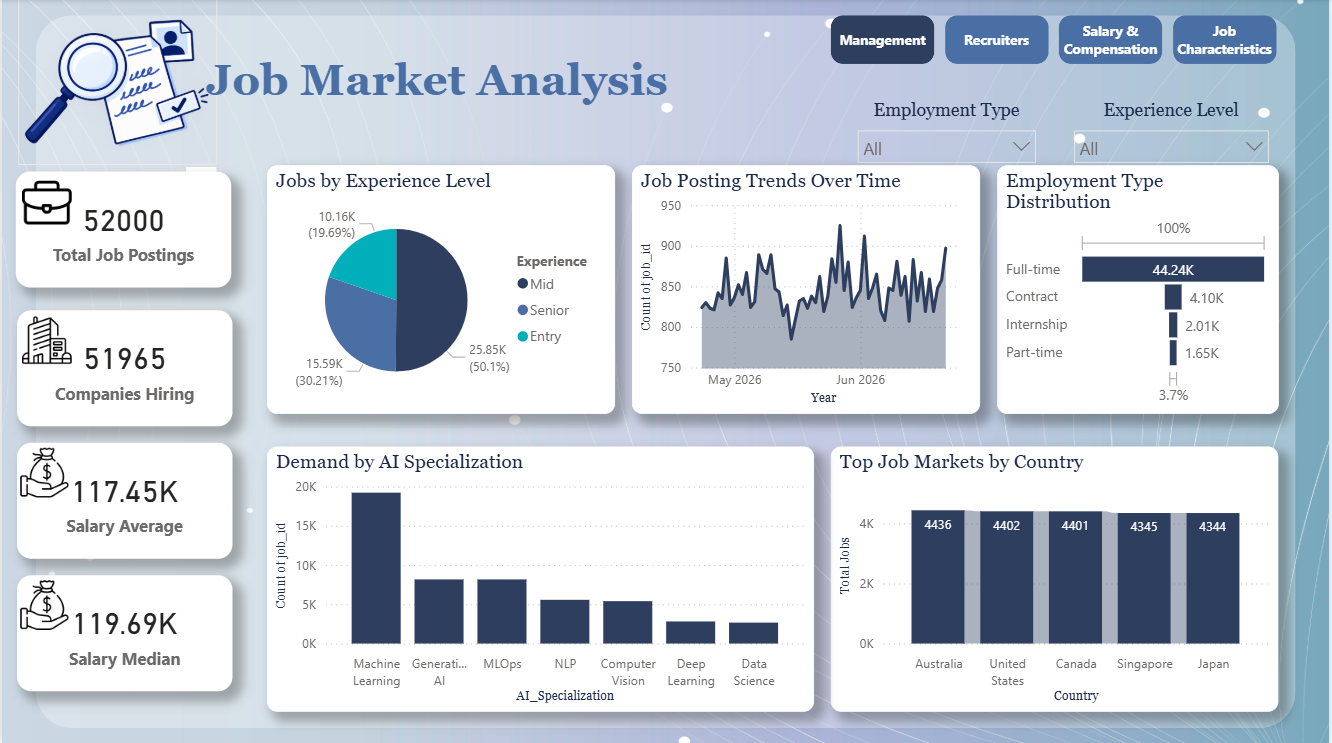

The page's visual inventory and layout, read from the dashboard file:
{"tool":"powerbi","page":{"name":"Management","canvas":[1280,720],"ordinal":0},"visuals":[{"type":"shape","box":[32,16,1216,688],"z":0},{"type":"image","box":[16,0,192,160],"z":1000},{"type":"textbox","box":[192,48,480,64],"z":2000},{"type":"columnChart","title":"Top Job Markets by Country","fields":{"Category":["dim_job_info.Country"],"Y":["CountNonNull(dim_job_info.job_id)"]},"box":[800,432,432,256],"z":3000},{"type":"card","fields":{"Values":["CountNonNull(dim_job_info.job_id)"]},"box":[13.4,166.7,208,112],"z":4000},{"type":"card","fields":{"Values":["CountNonNull(dim_company_info.company_id)"]},"box":[14.3,300.6,208,112],"z":5000},{"type":"card","fields":{"Values":["Avg(dim_compensation.salary_avg_usd)"]},"box":[14.3,428.6,208,112],"z":6000},{"type":"card","fields":{"Values":["Median(dim_compensation.salary_avg_usd)"]},"box":[14.3,556.6,208,112],"z":7000},{"type":"columnChart","title":"Demand by AI Specialization","fields":{"Category":["dim_job_info.AI_Specialization"],"Y":["CountNonNull(dim_job_info.job_id)"]},"box":[256,432,528,256],"z":8000},{"type":"image","box":[19.1,173,48,48],"z":9000},{"type":"image","box":[19.8,305.7,48,48],"z":10000},{"type":"image","box":[16.4,432.9,48,48],"z":11000},{"type":"image","box":[16.4,560.9,48,48],"z":12000},{"type":"funnel","title":"Employment Type Distribution","fields":{"Category":["dim_job_info.Employment_Type"],"Y":["CountNonNull(dim_job_info.job_id)"]},"box":[960,160,272,240],"z":13000},{"type":"pieChart","title":"Jobs by Experience Level","fields":{"Category":["dim_job_requirement.Experience_Level"],"Y":["CountNonNull(dim_job_info.job_id)"]},"box":[256,160,336,240],"z":14000},{"type":"slicer","title":"Experience Level","fields":{"Values":["dim_job_requirement.Experience_Level"]},"box":[1024,96,208,64],"z":15000},{"type":"slicer","title":"Employment Type","fields":{"Values":["dim_job_info.Employment_Type"]},"box":[816,96,192,64],"z":16000},{"type":"areaChart","title":"Job Posting Trends Over Time","fields":{"Category":["dim_date.Posting_Date.Variation.Date Hierarchy.Year","dim_date.Posting_Date.Variation.Date Hierarchy.Quarter","dim_date.Posting_Date.Variation.Date Hierarchy.Month","dim_date.Posting_Date.Variation.Date Hierarchy.Day"],"Y":["CountNonNull(dim_job_info.job_id)"]},"box":[608,160,336,240],"z":17000},{"type":"pageNavigator","box":[800,16,432,48],"z":18000}]}

Visuals, with their boxes in screenshot pixels (x1, y1, x2, y2), scaled from the page's 1280x720 canvas onto the 1332x743 screenshot:
shape: {"x1": 33, "y1": 17, "x2": 1299, "y2": 726}
image: {"x1": 17, "y1": 0, "x2": 216, "y2": 165}
textbox: {"x1": 200, "y1": 50, "x2": 699, "y2": 116}
"Top Job Markets by Country" columnChart: {"x1": 832, "y1": 446, "x2": 1282, "y2": 710}
card - CountNonNull(dim_job_info.job_id): {"x1": 14, "y1": 172, "x2": 230, "y2": 288}
card - CountNonNull(dim_company_info.company_id): {"x1": 15, "y1": 310, "x2": 231, "y2": 426}
card - Avg(dim_compensation.salary_avg_usd): {"x1": 15, "y1": 442, "x2": 231, "y2": 558}
card - Median(dim_compensation.salary_avg_usd): {"x1": 15, "y1": 574, "x2": 231, "y2": 690}
"Demand by AI Specialization" columnChart: {"x1": 266, "y1": 446, "x2": 816, "y2": 710}
image: {"x1": 20, "y1": 179, "x2": 70, "y2": 228}
image: {"x1": 21, "y1": 315, "x2": 71, "y2": 365}
image: {"x1": 17, "y1": 447, "x2": 67, "y2": 496}
image: {"x1": 17, "y1": 579, "x2": 67, "y2": 628}
"Employment Type Distribution" funnel: {"x1": 999, "y1": 165, "x2": 1282, "y2": 413}
"Jobs by Experience Level" pieChart: {"x1": 266, "y1": 165, "x2": 616, "y2": 413}
"Experience Level" slicer: {"x1": 1066, "y1": 99, "x2": 1282, "y2": 165}
"Employment Type" slicer: {"x1": 849, "y1": 99, "x2": 1049, "y2": 165}
"Job Posting Trends Over Time" areaChart: {"x1": 633, "y1": 165, "x2": 982, "y2": 413}
pageNavigator: {"x1": 832, "y1": 17, "x2": 1282, "y2": 66}
